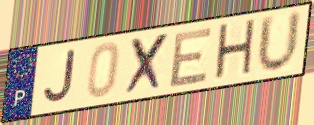0: (84, 40, 123, 102)
E: (167, 25, 215, 90)
H: (212, 16, 258, 84)
J: (41, 47, 77, 106)
U: (255, 9, 304, 76)
X: (124, 30, 172, 97)
